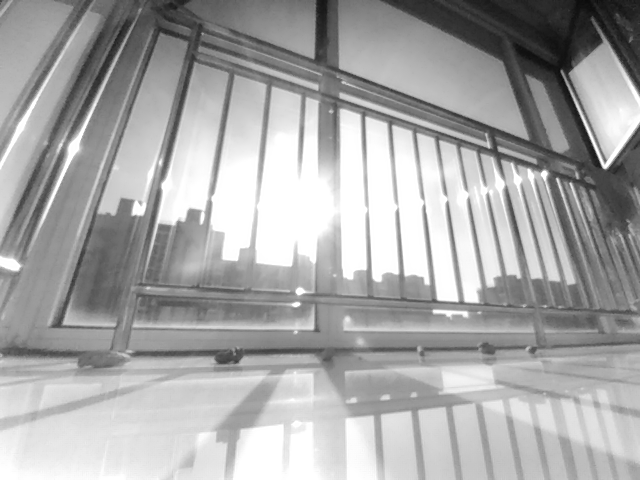pet feces: (76, 348, 131, 368), (213, 345, 245, 366), (316, 345, 336, 363), (477, 341, 496, 356), (525, 344, 539, 355), (415, 344, 425, 356)
